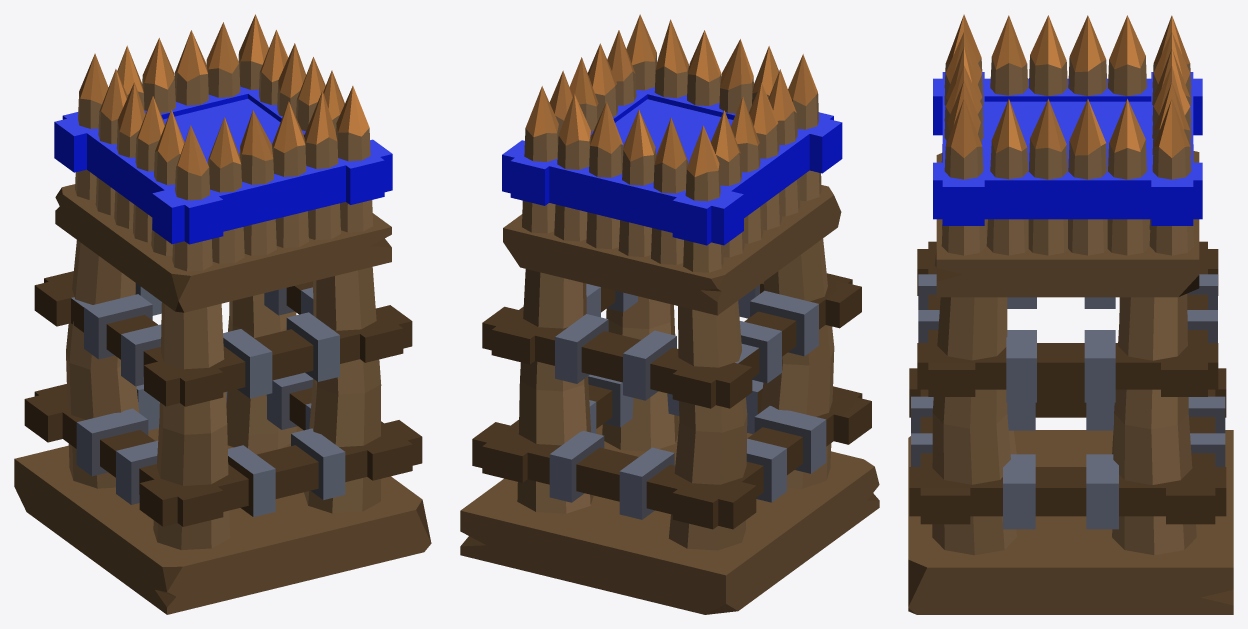
The model's file is Tower3 1.fbx.
3 views of the same model, side by side, from view 1: azimuth 30°, elevation 25°; view 2: azimuth 150°, elevation 25°; view 3: azimuth 270°, elevation 25° (orthographic). The views are drawn at different scales.
Visible parts, largest first — view 1: Tower3; view 2: Tower3; view 3: Tower3.
Part boxes in pixels (x1,y1,x2,y2): Tower3: [14, 14, 431, 614]; Tower3: [460, 14, 879, 614]; Tower3: [908, 14, 1233, 614].
Size of the model in its own units: 282 by 470 by 282.
